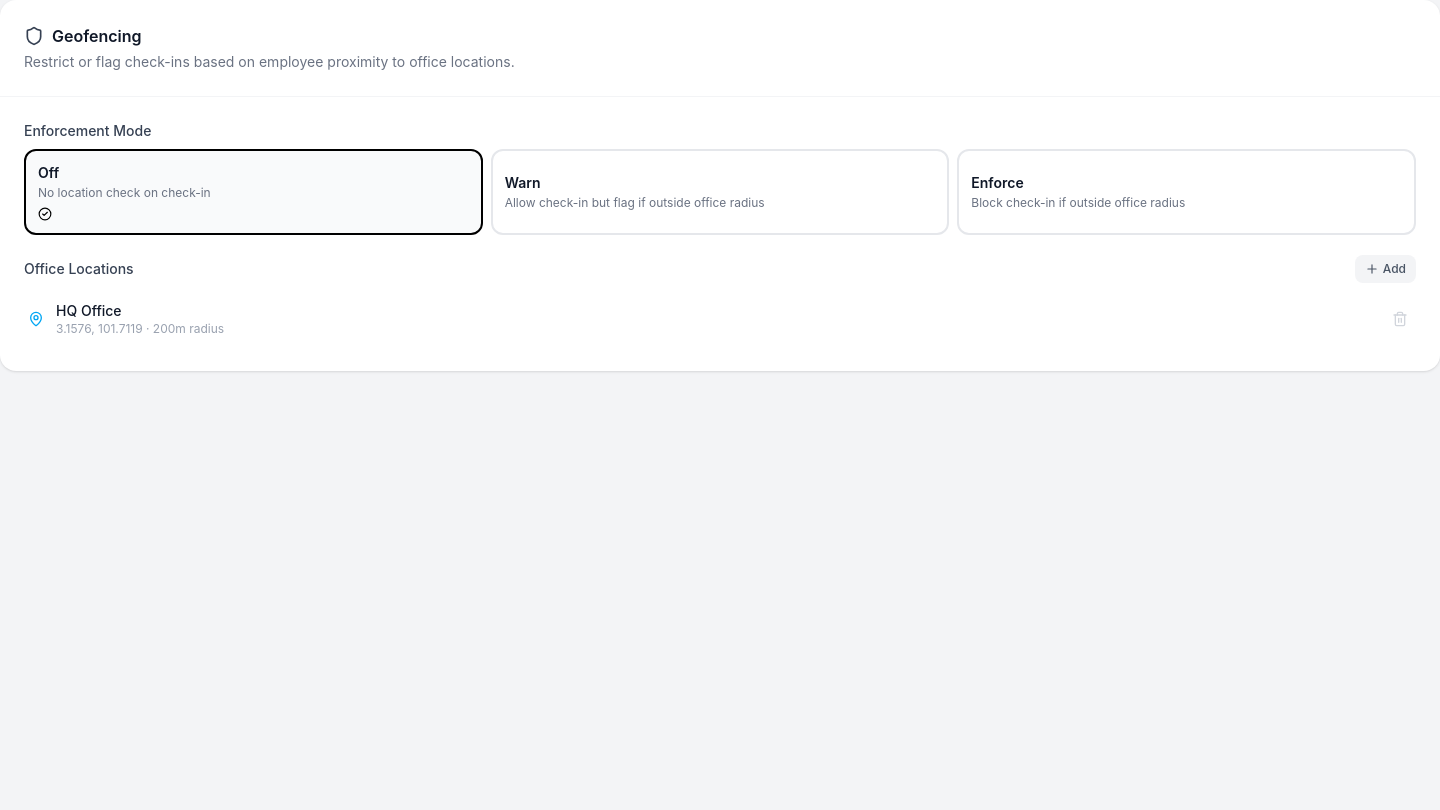
it: GeofenceCard › surfaces a rejected radius from the server
This screenshot has width=1440, height=810.
Expected: the text "HQ Office" is shown, x1=56 y1=302 x2=122 y2=319
Click the button "Add".
click(1385, 269)  # box x1=1355 y1=255 x2=1416 y2=283
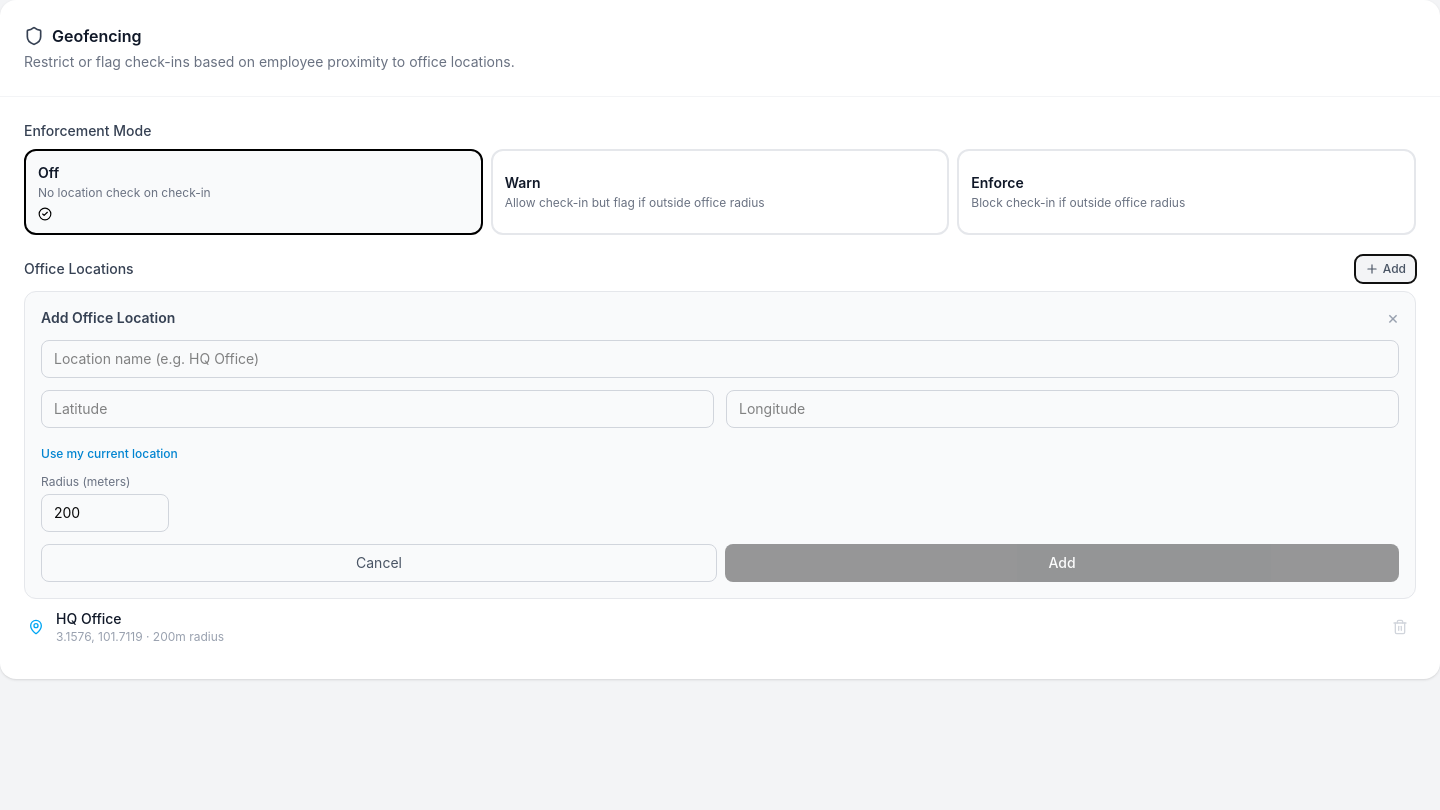
Type "Branch" into the field with placeholder "Location name (e.g. HQ Office)".
click(720, 359); type("Branch")  # box x1=41 y1=340 x2=1399 y2=378
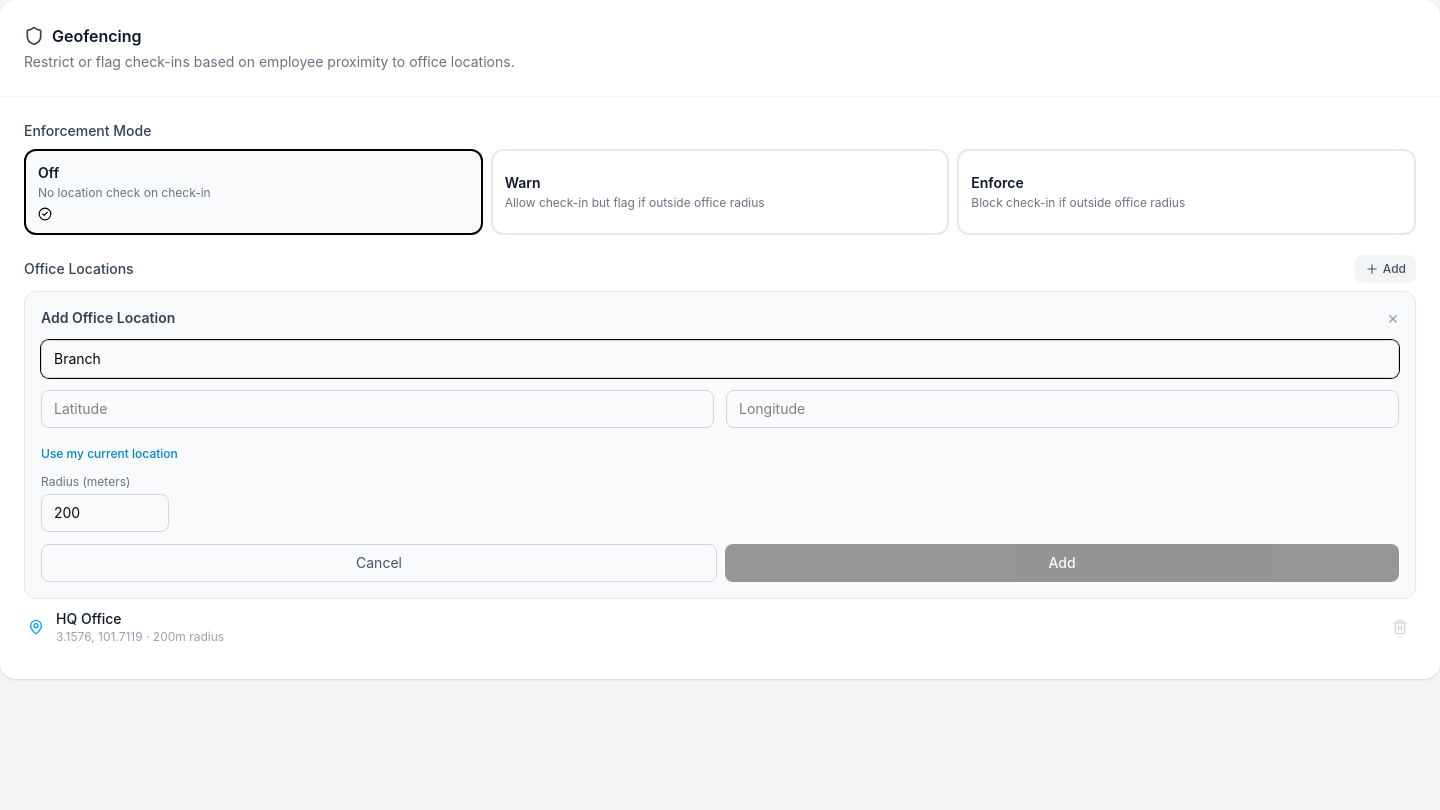
Type "3.20" into the field with placeholder "Latitude".
click(378, 409); type("3.20")  # box x1=41 y1=390 x2=714 y2=428
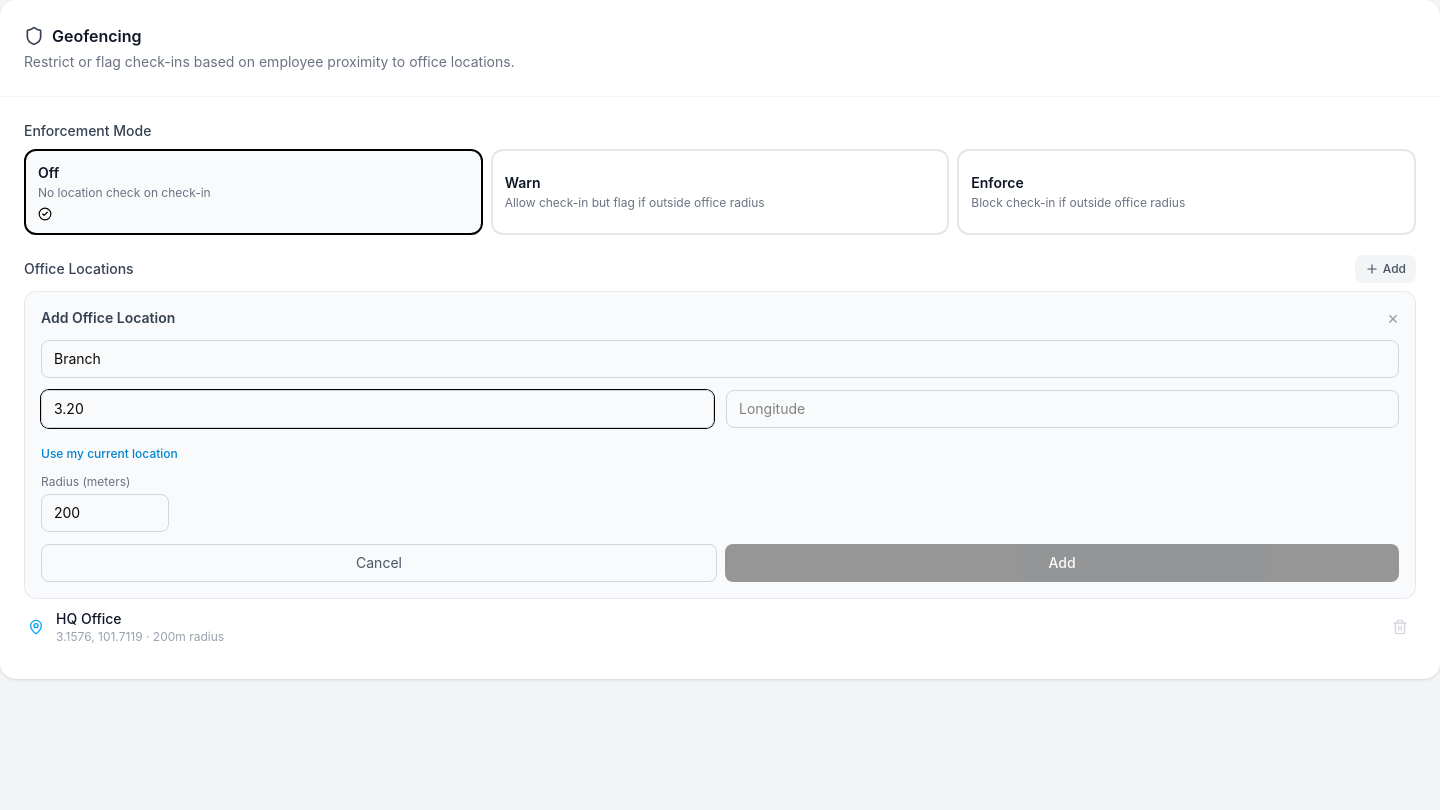
Type "101.60" into the field with placeholder "Longitude".
click(1062, 409); type("101.60")  # box x1=726 y1=390 x2=1399 y2=428
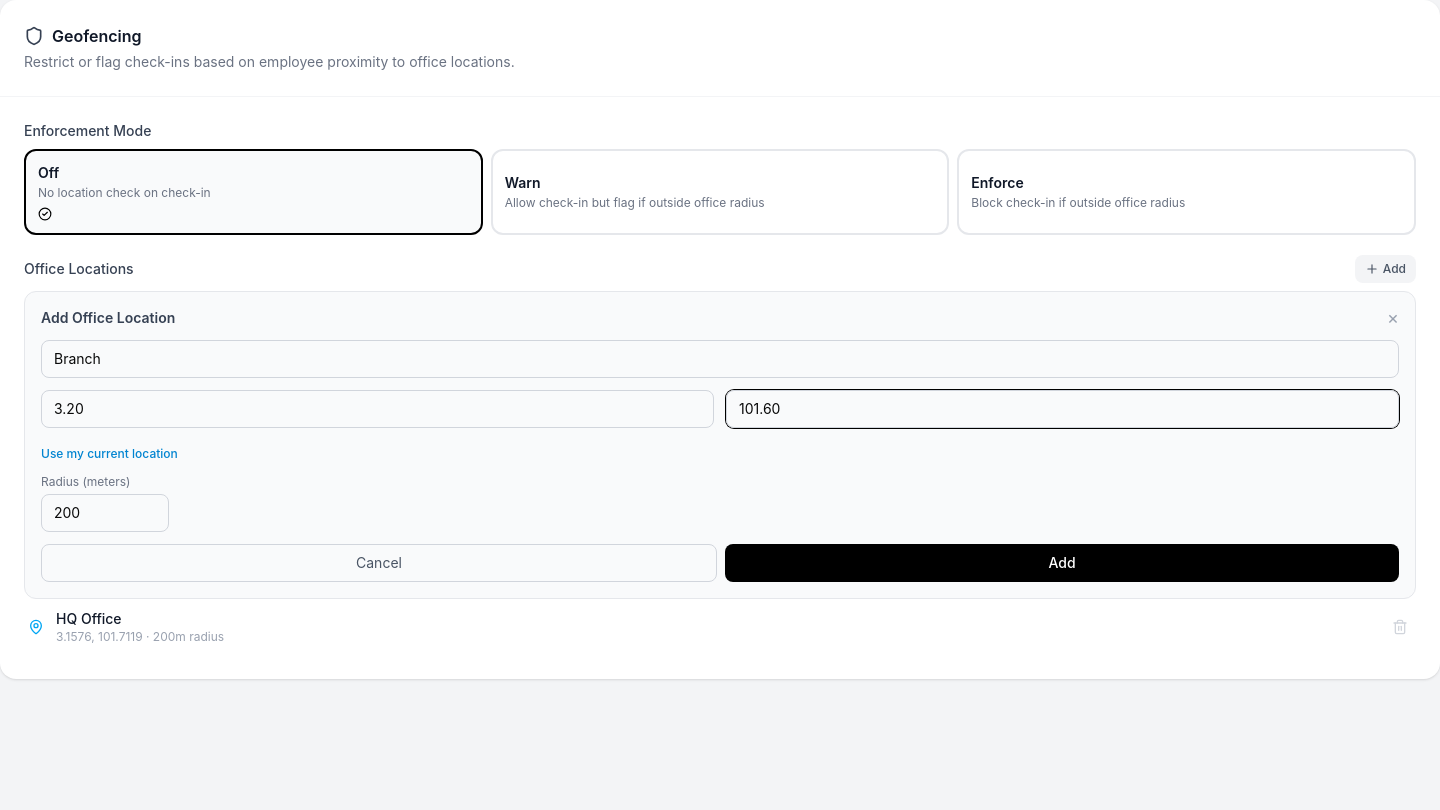
Click the 2nd button "Add".
click(1062, 563)  # box x1=725 y1=544 x2=1399 y2=582
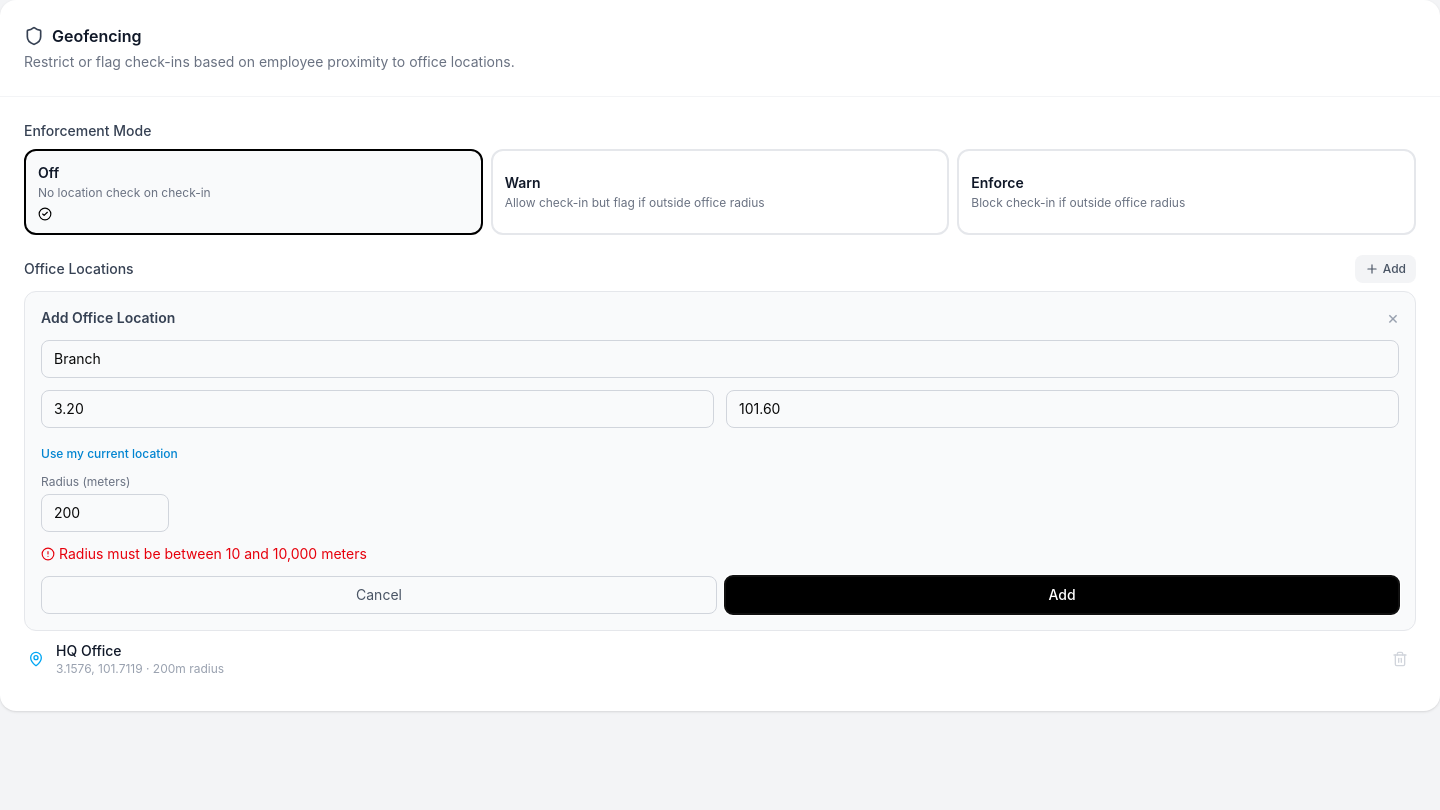
Result: the text "Radius must be between 10 and 10,000 meters" is shown at x1=41 y1=545 x2=367 y2=562
